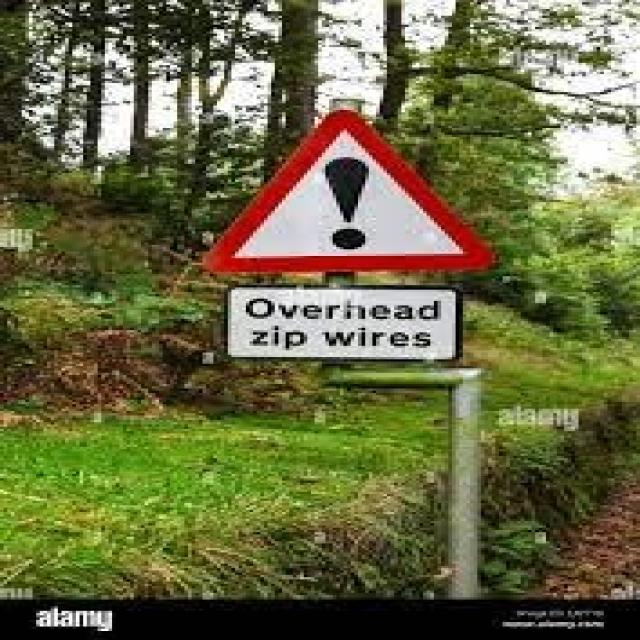warning: (189, 110, 488, 280)
